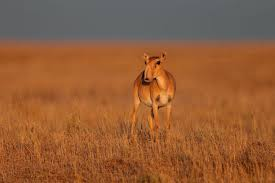saiga: (128, 48, 181, 137)
